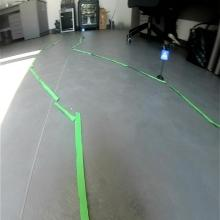crosswalk: (160, 49, 170, 61)
